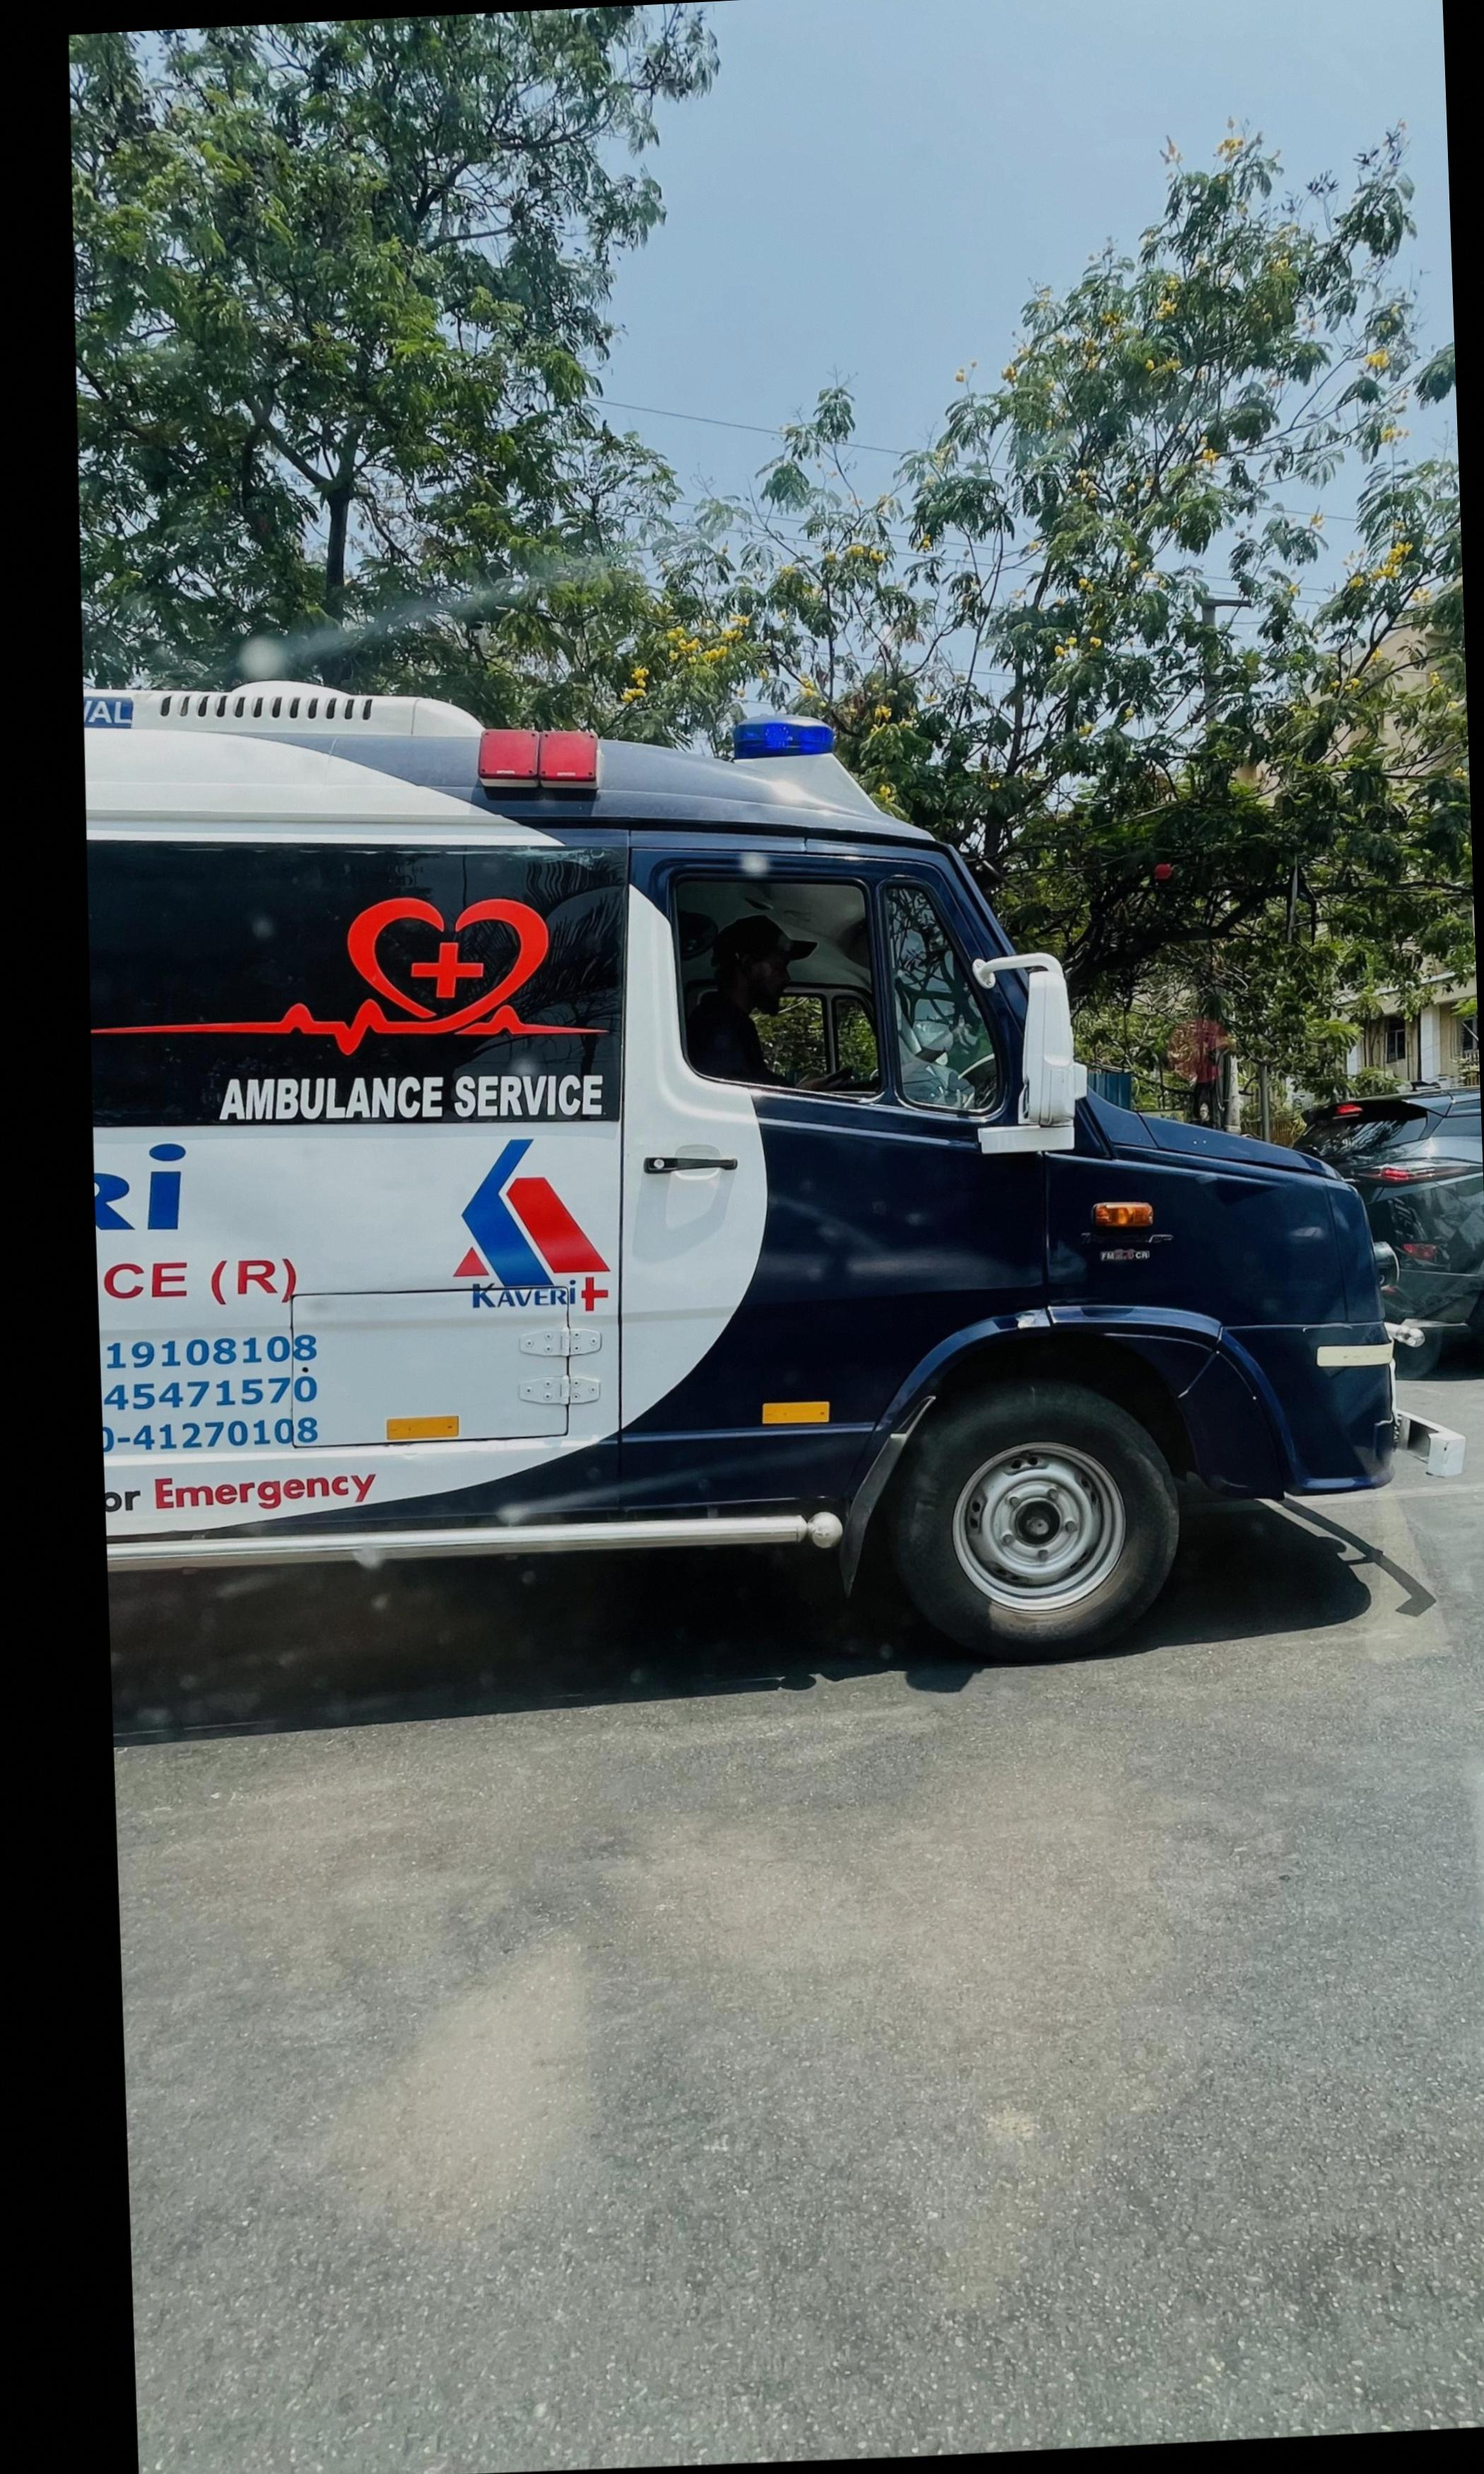ambulance: (85, 693, 1399, 1659)
